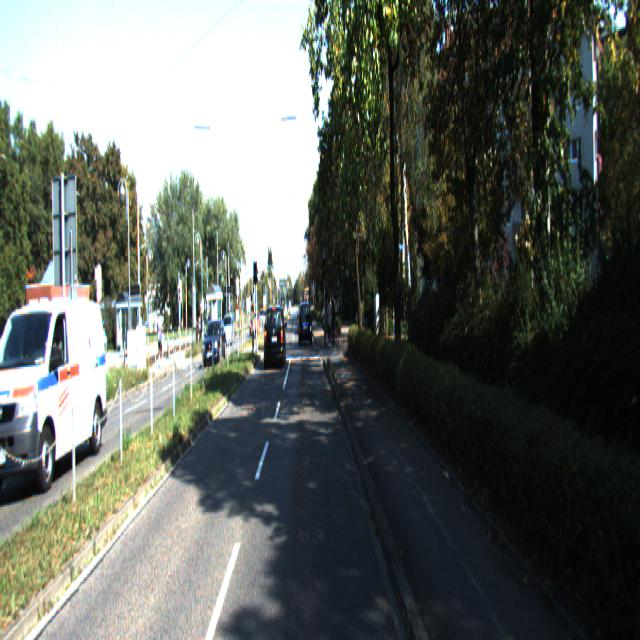Car: (0, 291, 111, 494), (264, 304, 286, 370), (202, 320, 227, 371), (299, 302, 313, 348)
